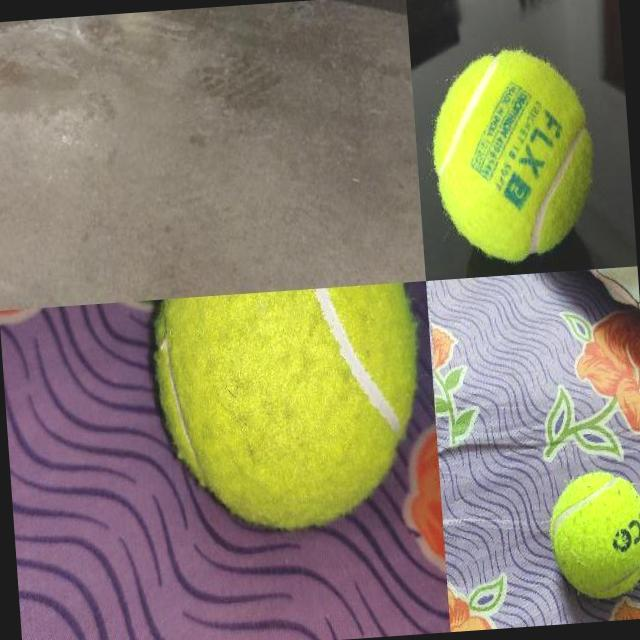tennis-ball: (149, 282, 429, 538), (424, 42, 600, 266), (545, 465, 640, 604)
